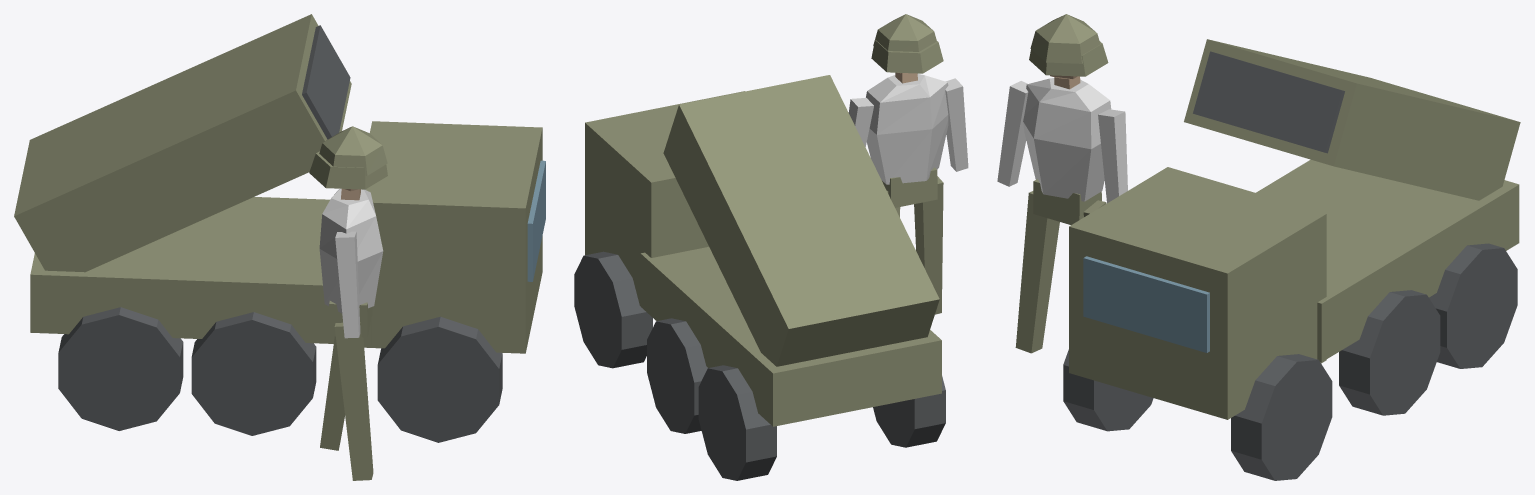
The model's file is rocket-artillery.glb.
3 views of the same model, side by side, from view 1: azimuth 30°, elevation 25°; view 2: azimuth 150°, elevation 25°; view 3: azimuth 270°, elevation 25° (orthographic). The views are drawn at different scales.
Parts seen in each view (by area): view 1: LOD0; view 2: LOD0; view 3: LOD0.
Part boxes in pixels (x1,y1,x2,y2): LOD0: [14, 14, 545, 480]; LOD0: [574, 14, 968, 480]; LOD0: [997, 14, 1520, 480].
Size of what is drawn, in the model's own units: 0.9891 by 0.7296 by 0.9716.
